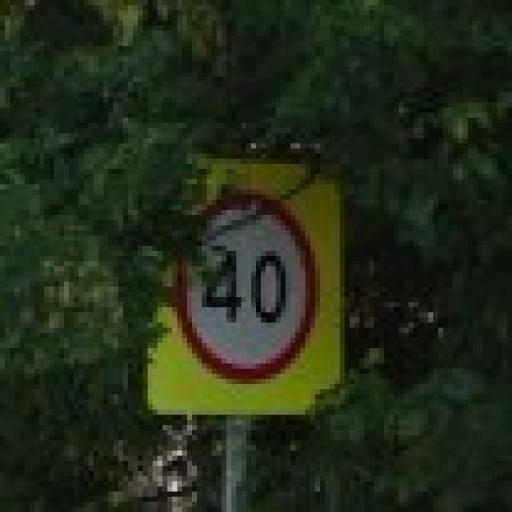traffic_sign: (173, 190, 321, 385)
